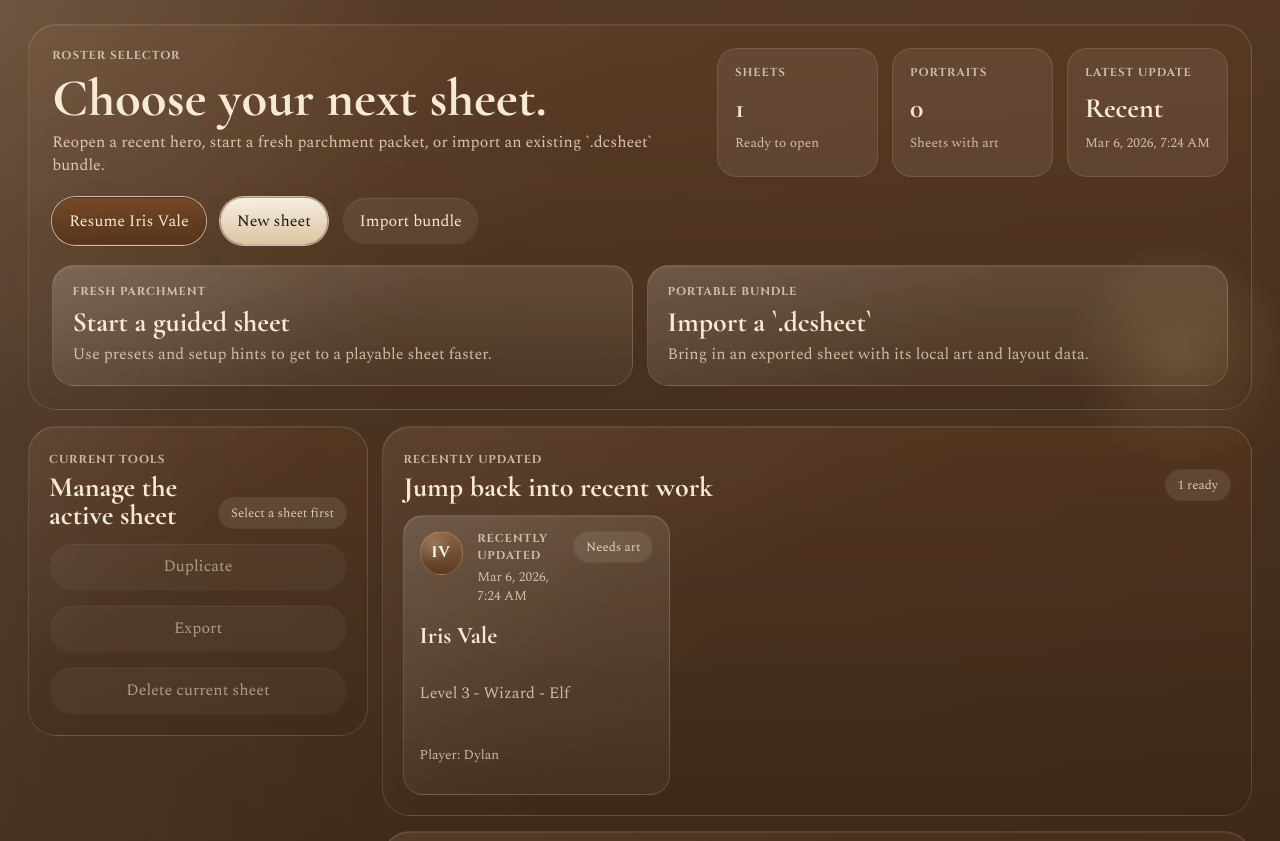
Test: App roster navigation › enters a sheet from the roster and lets the user return
Click the button "Resume Iris Vale" at (129, 221), box [52, 197, 206, 245]
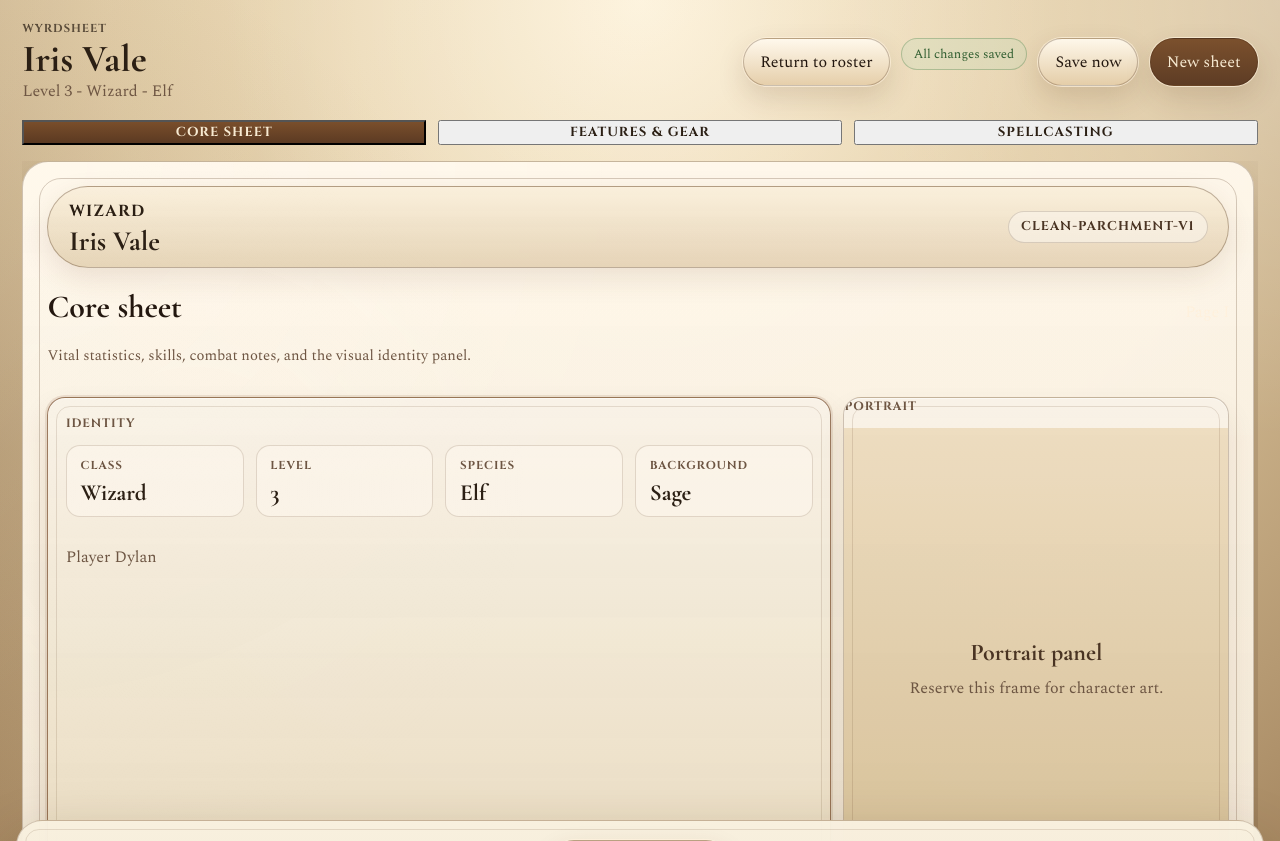
Check: the heading "Iris Vale" is shown, box [22, 36, 147, 82]
Check: the button "Return to roster" is shown
Click the button "Return to roster" at (816, 62), box [743, 38, 890, 86]
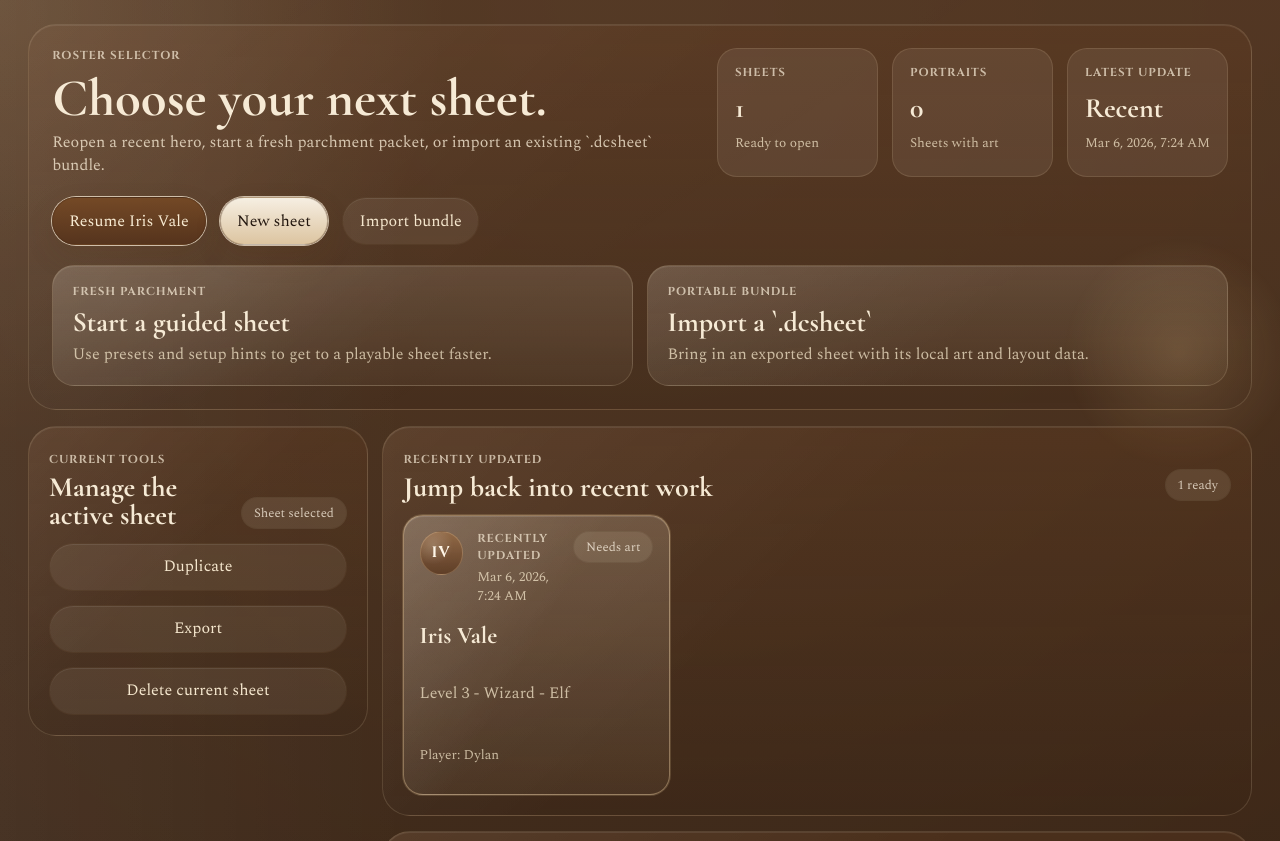
Check: the button "Return to roster" is gone
Check: the button "Resume Iris Vale" is shown, box [52, 197, 206, 245]
